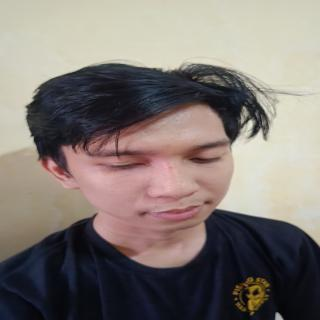Sedih: (64, 97, 243, 240)
